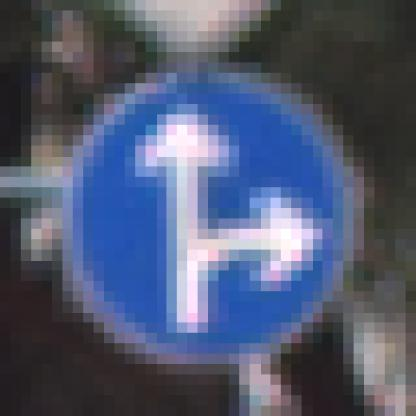Straight or Right: (53, 63, 365, 365)
